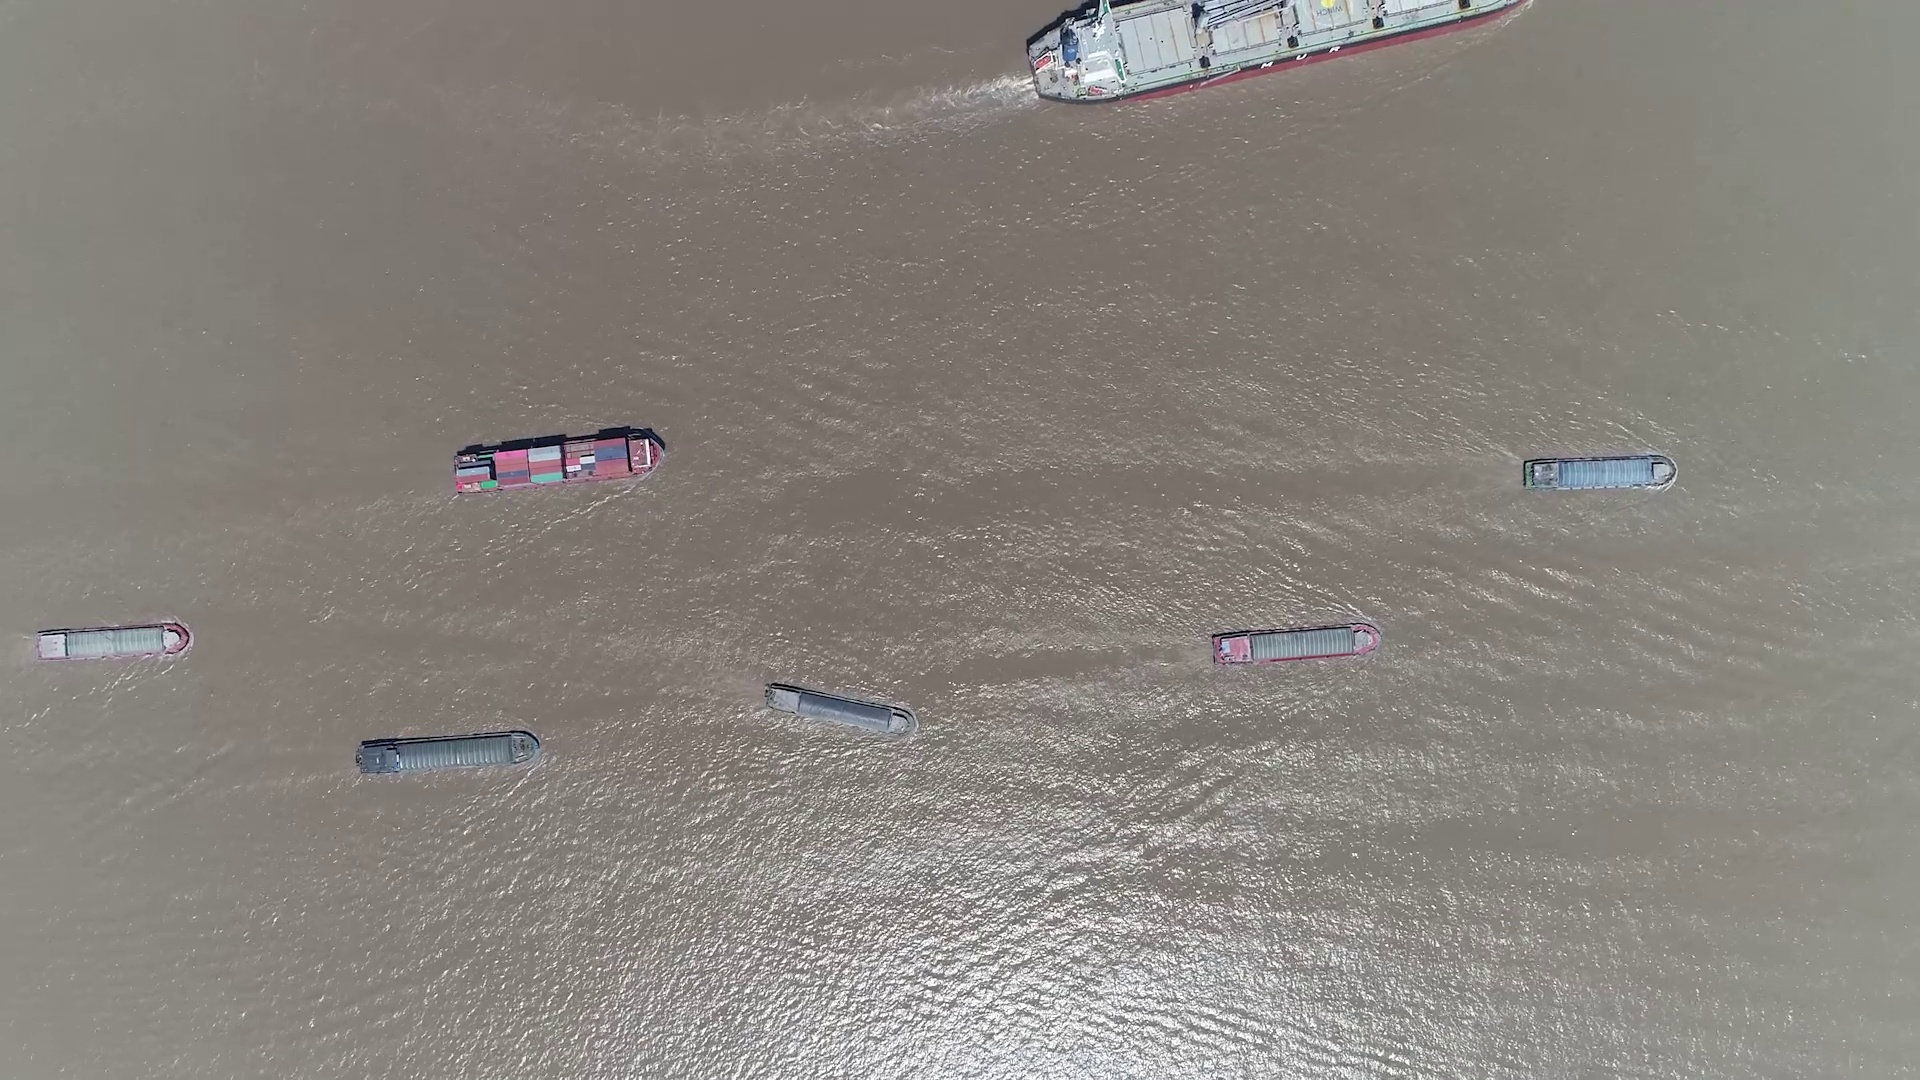ship: (1025, 3, 1530, 109), (454, 429, 665, 495), (764, 682, 916, 736), (357, 731, 541, 775), (1212, 622, 1382, 666), (34, 622, 190, 661), (1524, 456, 1677, 491)
